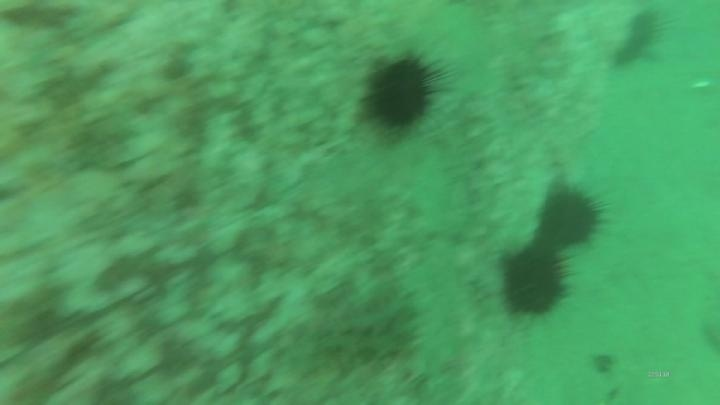echinus: (357, 47, 451, 138), (494, 240, 575, 322), (534, 180, 610, 254), (608, 7, 669, 71)
holothurian: (309, 294, 423, 374)
